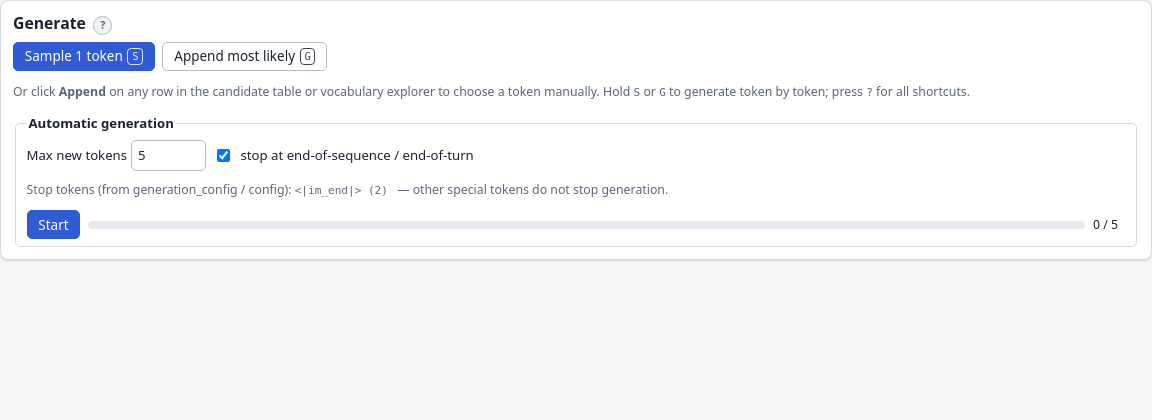
Scenario: GenerationControls › automatic generation respects the maximum and reports progress
Click the button with test id "auto-start" at (53,225), box [26,210,80,239]
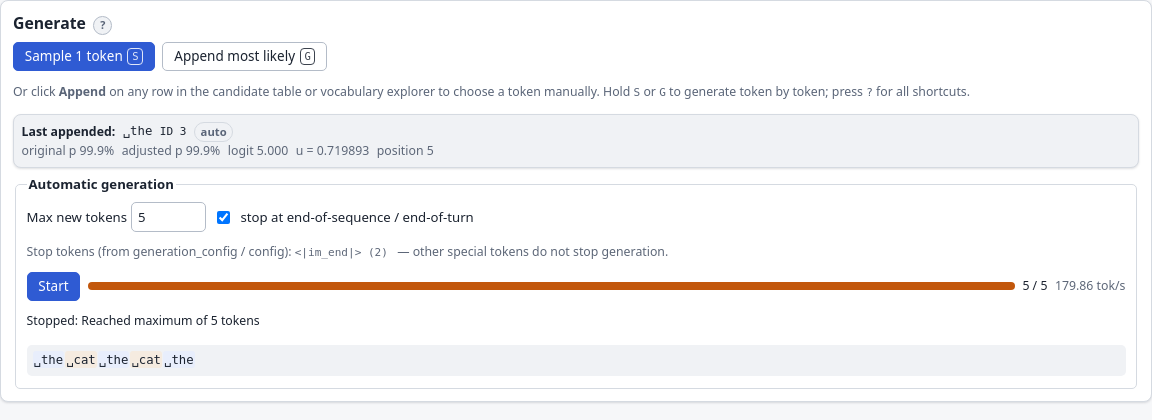
expect the text with test id "auto-count" reads "5 / 5": met, box [1022,278,1047,294]
expect the text with test id "auto-stop-reason" shows "maximum of 5": met, box [26,312,260,328]
expect the element with test id "auto-generated" is shown: met, box [26,345,1126,376]
